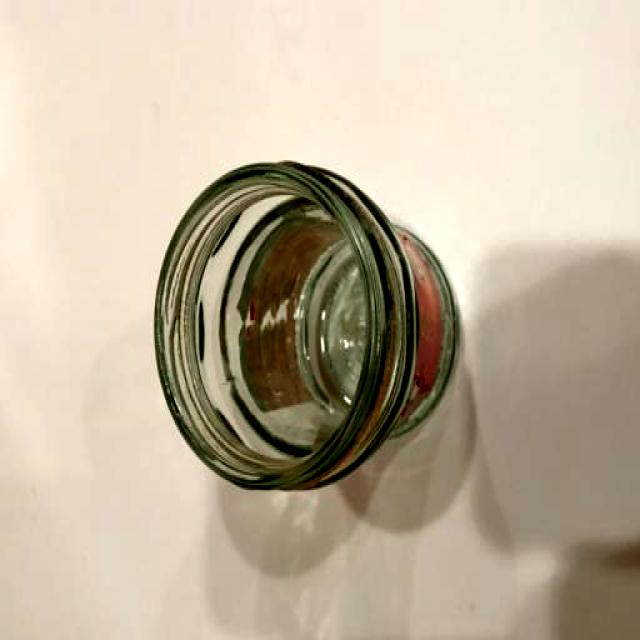Glass: (155, 162, 461, 491)
